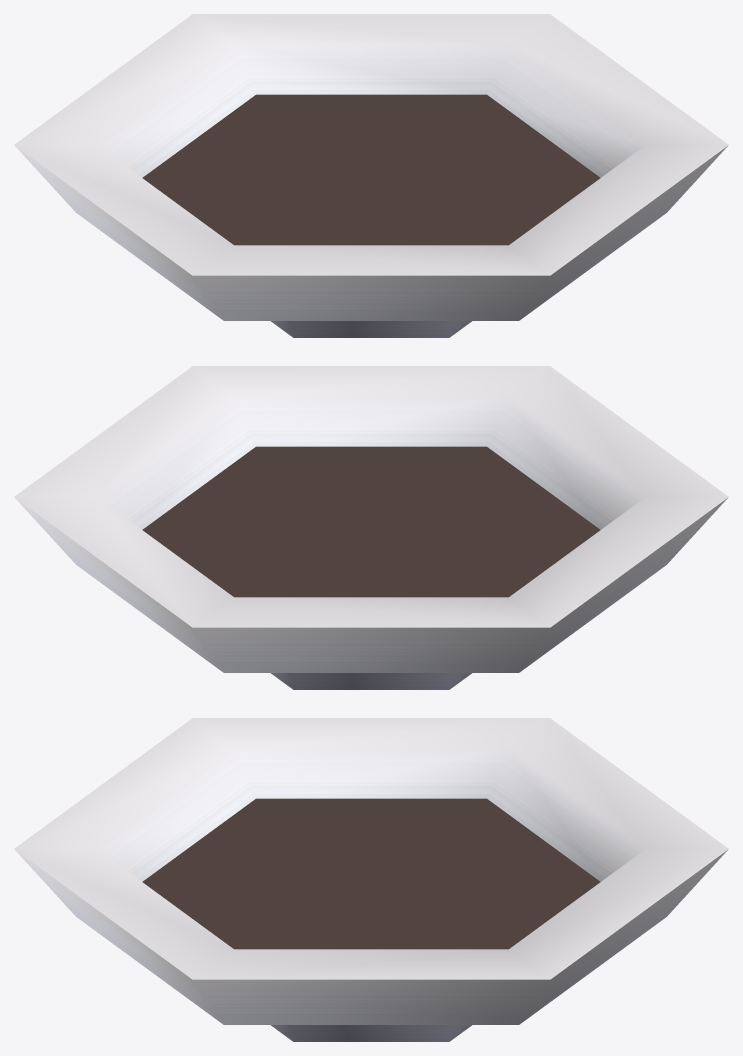
File: soy.glb
3 views of the same model, one above another, from view 1: azimuth 30°, elevation 25°; view 2: azimuth 150°, elevation 25°; view 3: azimuth 270°, elevation 25° (orthographic).
Visible parts, largest first — view 1: soy; view 2: soy; view 3: soy.
Part boxes in pixels (x1,y1,x2,y2): soy: (14,14,728,337); soy: (14,366,728,689); soy: (14,718,728,1041).
Size of the model in its own units: 0.1653 by 0.04 by 0.1909.
1 material, 1 textured.
